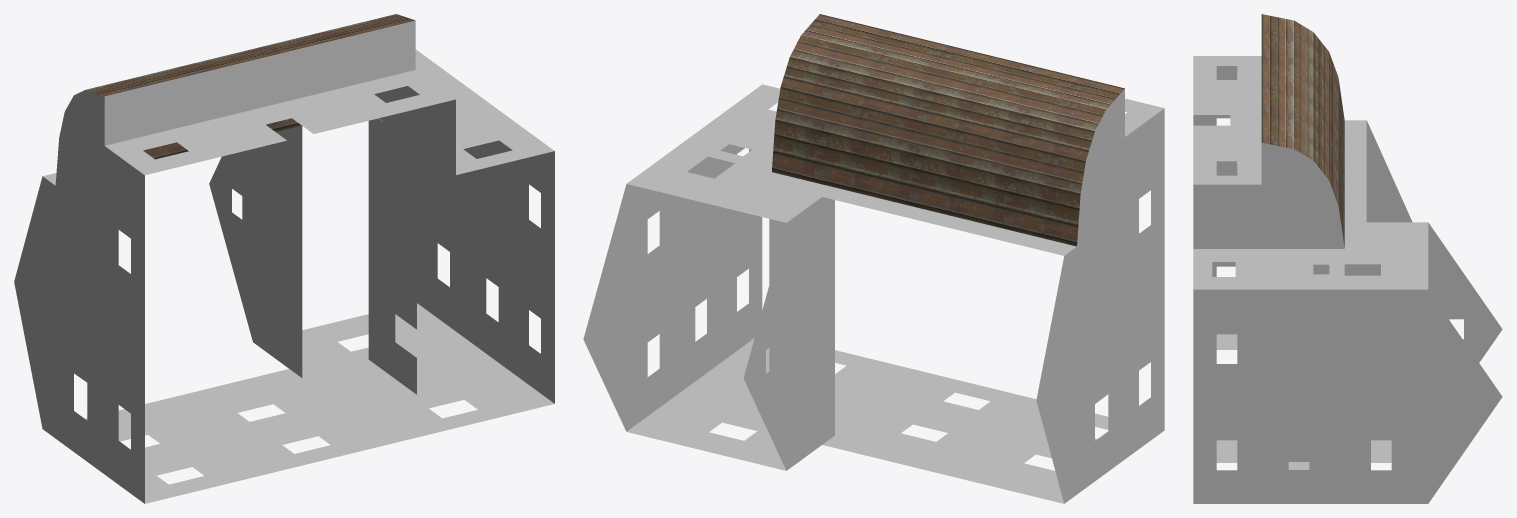
File: Pirate_Bar_Interior_C.fbx
3 renders of one model, left to right at view 1: azimuth 30°, elevation 25°; view 2: azimuth 150°, elevation 25°; view 3: azimuth 270°, elevation 25°, orthographic. The views are drawn at different scales.
Parts seen in each view (by area): view 1: Pirate_Bar_Interior_C; view 2: Pirate_Bar_Interior_C; view 3: Pirate_Bar_Interior_C.
Boxes of the visible parts, x1,y1,x2,y2 form: Pirate_Bar_Interior_C: [14, 14, 554, 503]; Pirate_Bar_Interior_C: [583, 14, 1164, 503]; Pirate_Bar_Interior_C: [1193, 14, 1502, 503].
Size of the model in its own units: 22.95 by 20.23 by 17.7.
